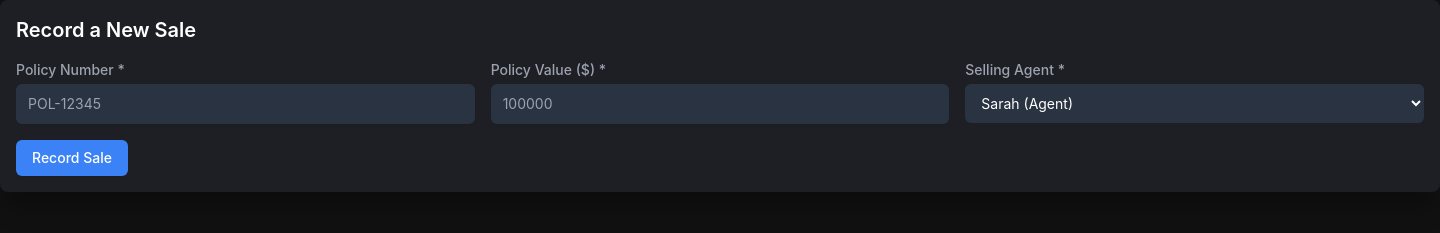
Test case: SalesForm Component › shows validation error for policy value exceeding max
The image size is (1440, 233).
Type "POL-123" into the field labelled "Policy Number *" at [245, 104], box left=16, top=84, right=475, bottom=124
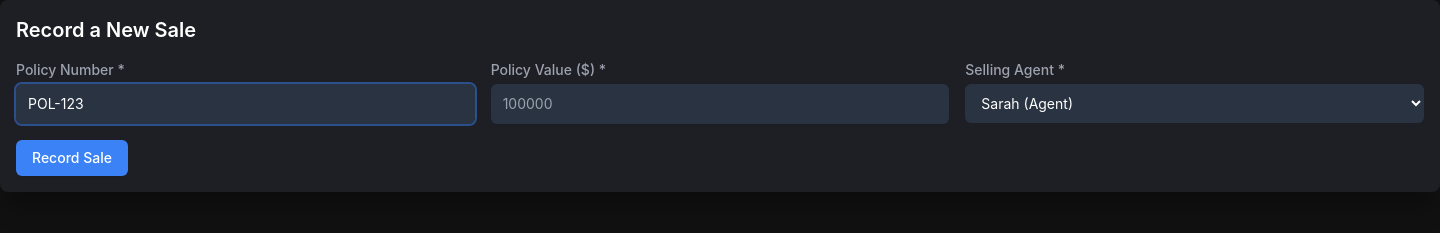
Type "11000000" into the number field labelled "Policy Value ($) *" at [720, 104], box left=491, top=84, right=949, bottom=124
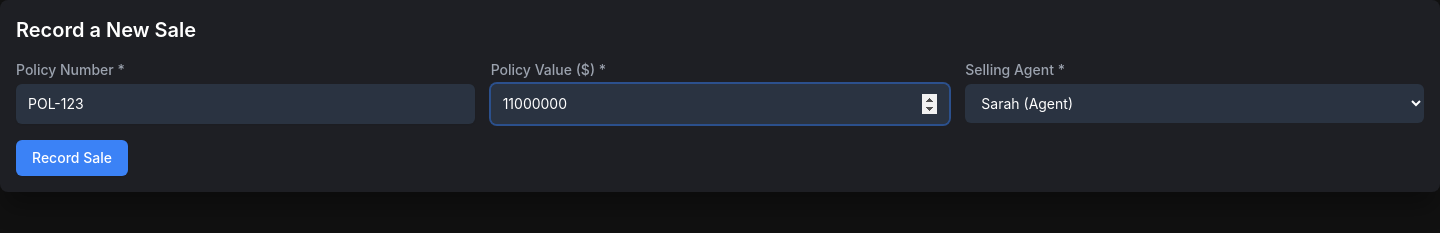
Click the button "Record Sale" at [72, 158], box left=16, top=140, right=128, bottom=176
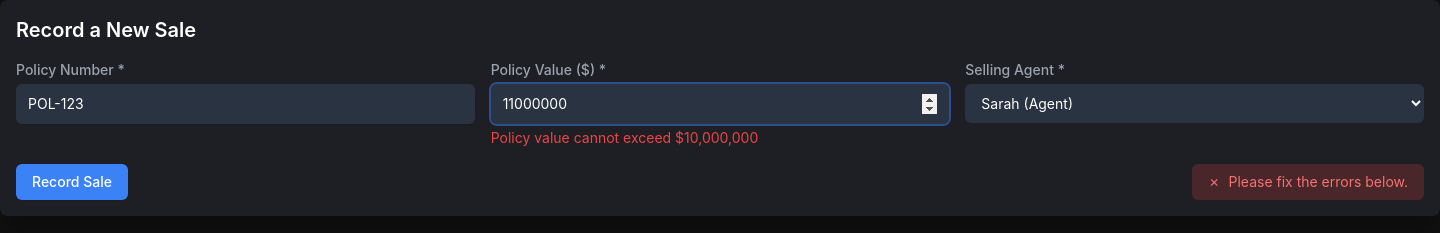
Expected: the text "Policy value cannot exceed $10,000,000" is shown, left=491, top=129, right=758, bottom=146
